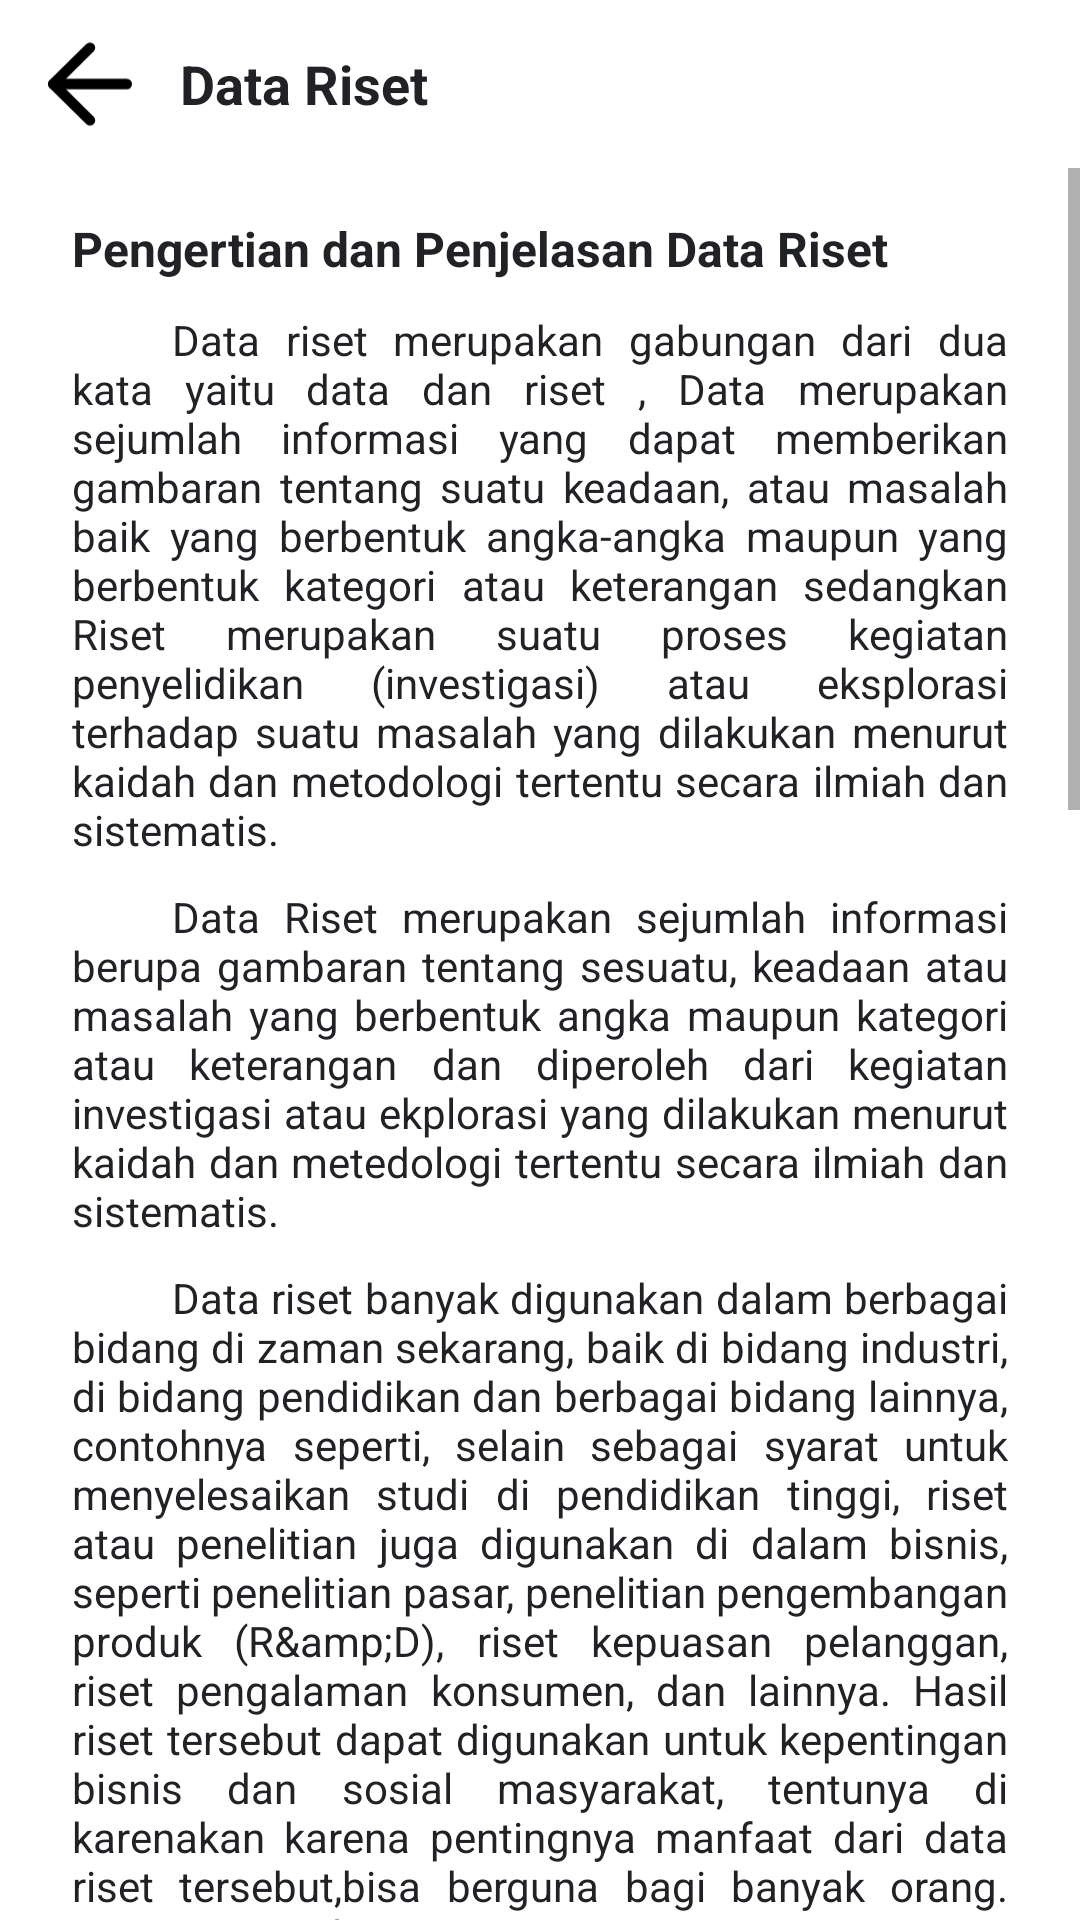

Named icons in this screenshot (1080×1920) and their bounding boxes, (x1,y1,x2,y2):
Kembali: (48,42,132,126)
